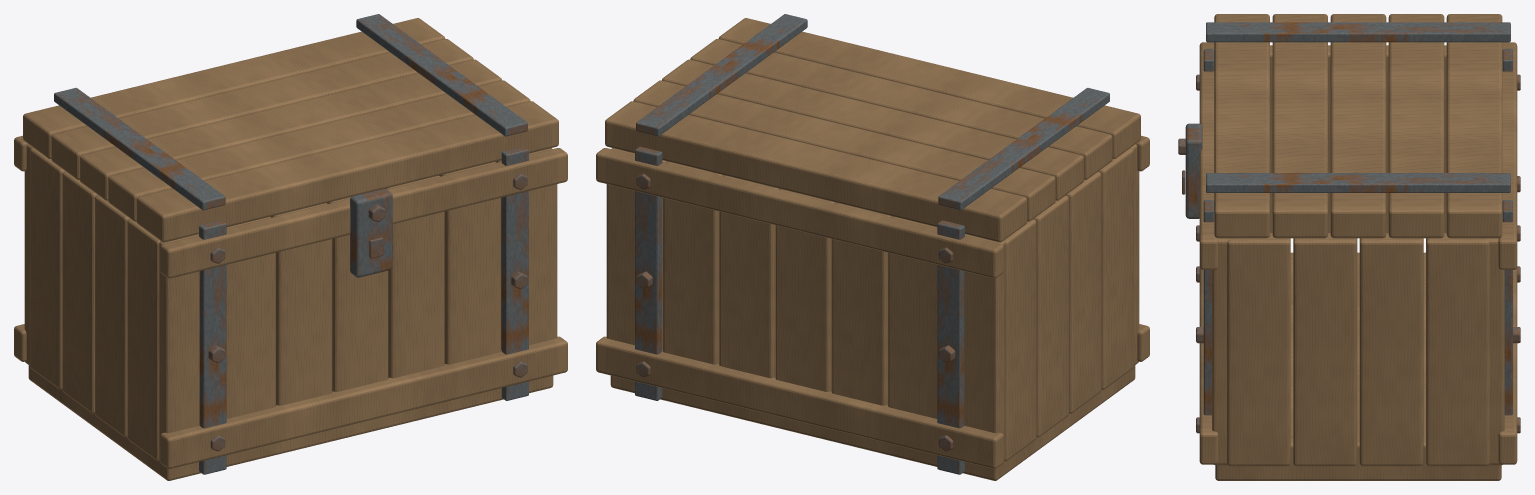
Rendered from SM_SharedCrate.fbx.
3 views of the same model, side by side, from view 1: azimuth 30°, elevation 25°; view 2: azimuth 150°, elevation 25°; view 3: azimuth 270°, elevation 25° (orthographic). The views are drawn at different scales.
Parts seen in each view (by area): view 1: SM_SharedCrate; view 2: SM_SharedCrate; view 3: SM_SharedCrate.
Part boxes in pixels (<box>): SM_SharedCrate: <box>14,14,567,480</box>; SM_SharedCrate: <box>596,14,1149,480</box>; SM_SharedCrate: <box>1178,14,1520,480</box>.
Size of the model in its own units: 114 by 82.5 by 75.15.
